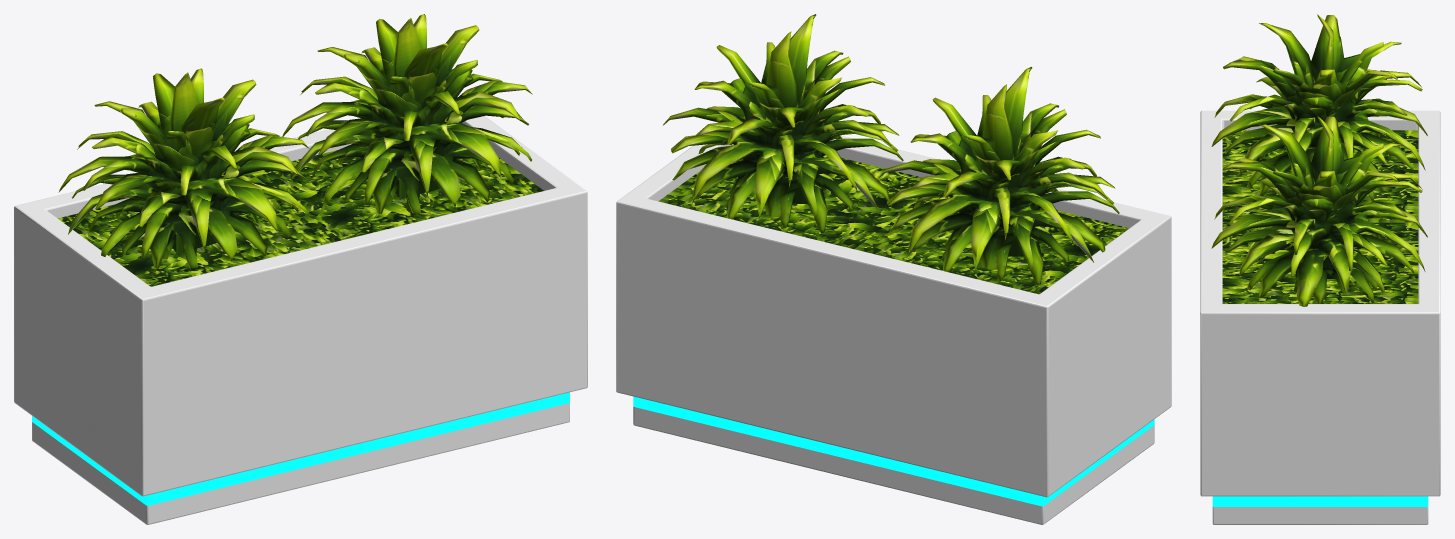
The model's file is MediumPlanter.fbx.
The picture shows the model from 3 angles, left to right: view 1: azimuth 30°, elevation 25°; view 2: azimuth 150°, elevation 25°; view 3: azimuth 270°, elevation 25°; orthographic projection. The views are drawn at different scales.
Visible parts, largest first — view 1: MediumPlanter, MediumPlanterPlant; view 2: MediumPlanter, MediumPlanterPlant; view 3: MediumPlanter, MediumPlanterPlant.
Boxes of the visible parts, x1,y1,x2,y2 form: MediumPlanter: (14,116,587,524); MediumPlanterPlant: (57,14,543,286); MediumPlanter: (616,135,1171,524); MediumPlanterPlant: (658,14,1129,294); MediumPlanter: (1200,110,1440,524); MediumPlanterPlant: (1211,14,1427,306).
Size of the model in its own units: 60 by 50 by 30.
2 materials, 2 textured.
